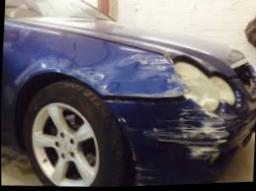Bumper: (107, 98, 251, 186)
Fender: (75, 40, 188, 97)
